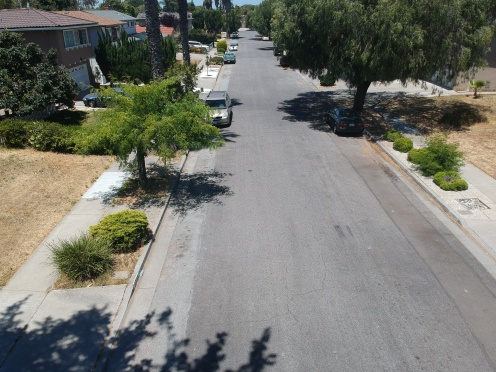bottle: (137, 266, 147, 278)
